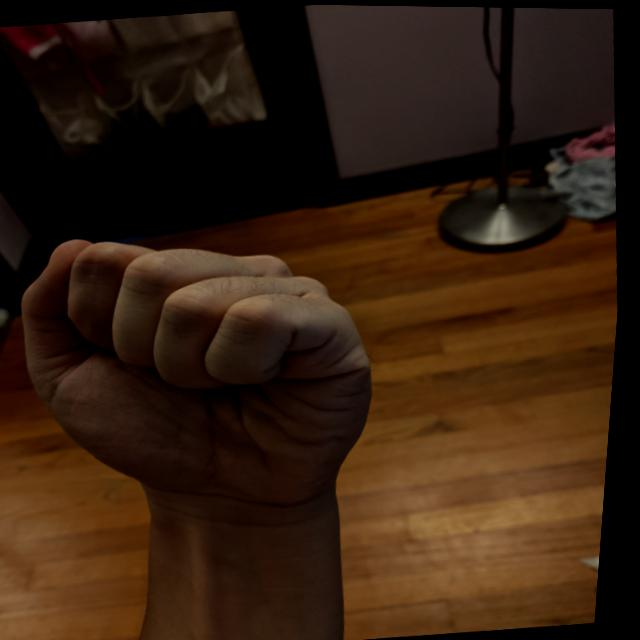A: (0, 205, 408, 546)
